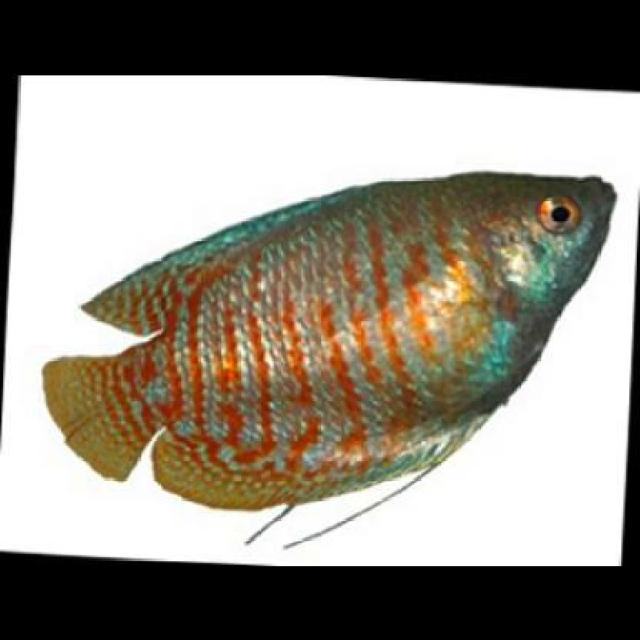Gourami: (37, 157, 625, 517)
